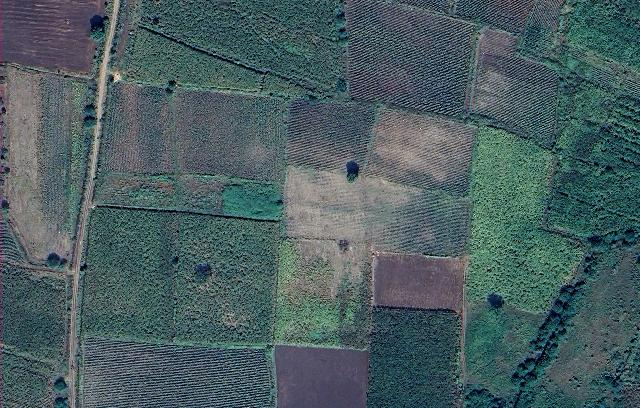EmptyFarms: (0, 1, 102, 73), (371, 251, 465, 313), (275, 346, 367, 408)
Farms: (81, 207, 279, 346), (93, 85, 286, 220), (122, 0, 347, 106), (465, 126, 586, 318), (0, 65, 93, 271), (282, 168, 467, 258), (346, 1, 481, 120), (81, 339, 272, 408), (467, 25, 561, 150), (274, 239, 372, 348), (0, 263, 72, 408), (362, 107, 476, 197), (367, 309, 461, 408), (286, 101, 381, 176)
